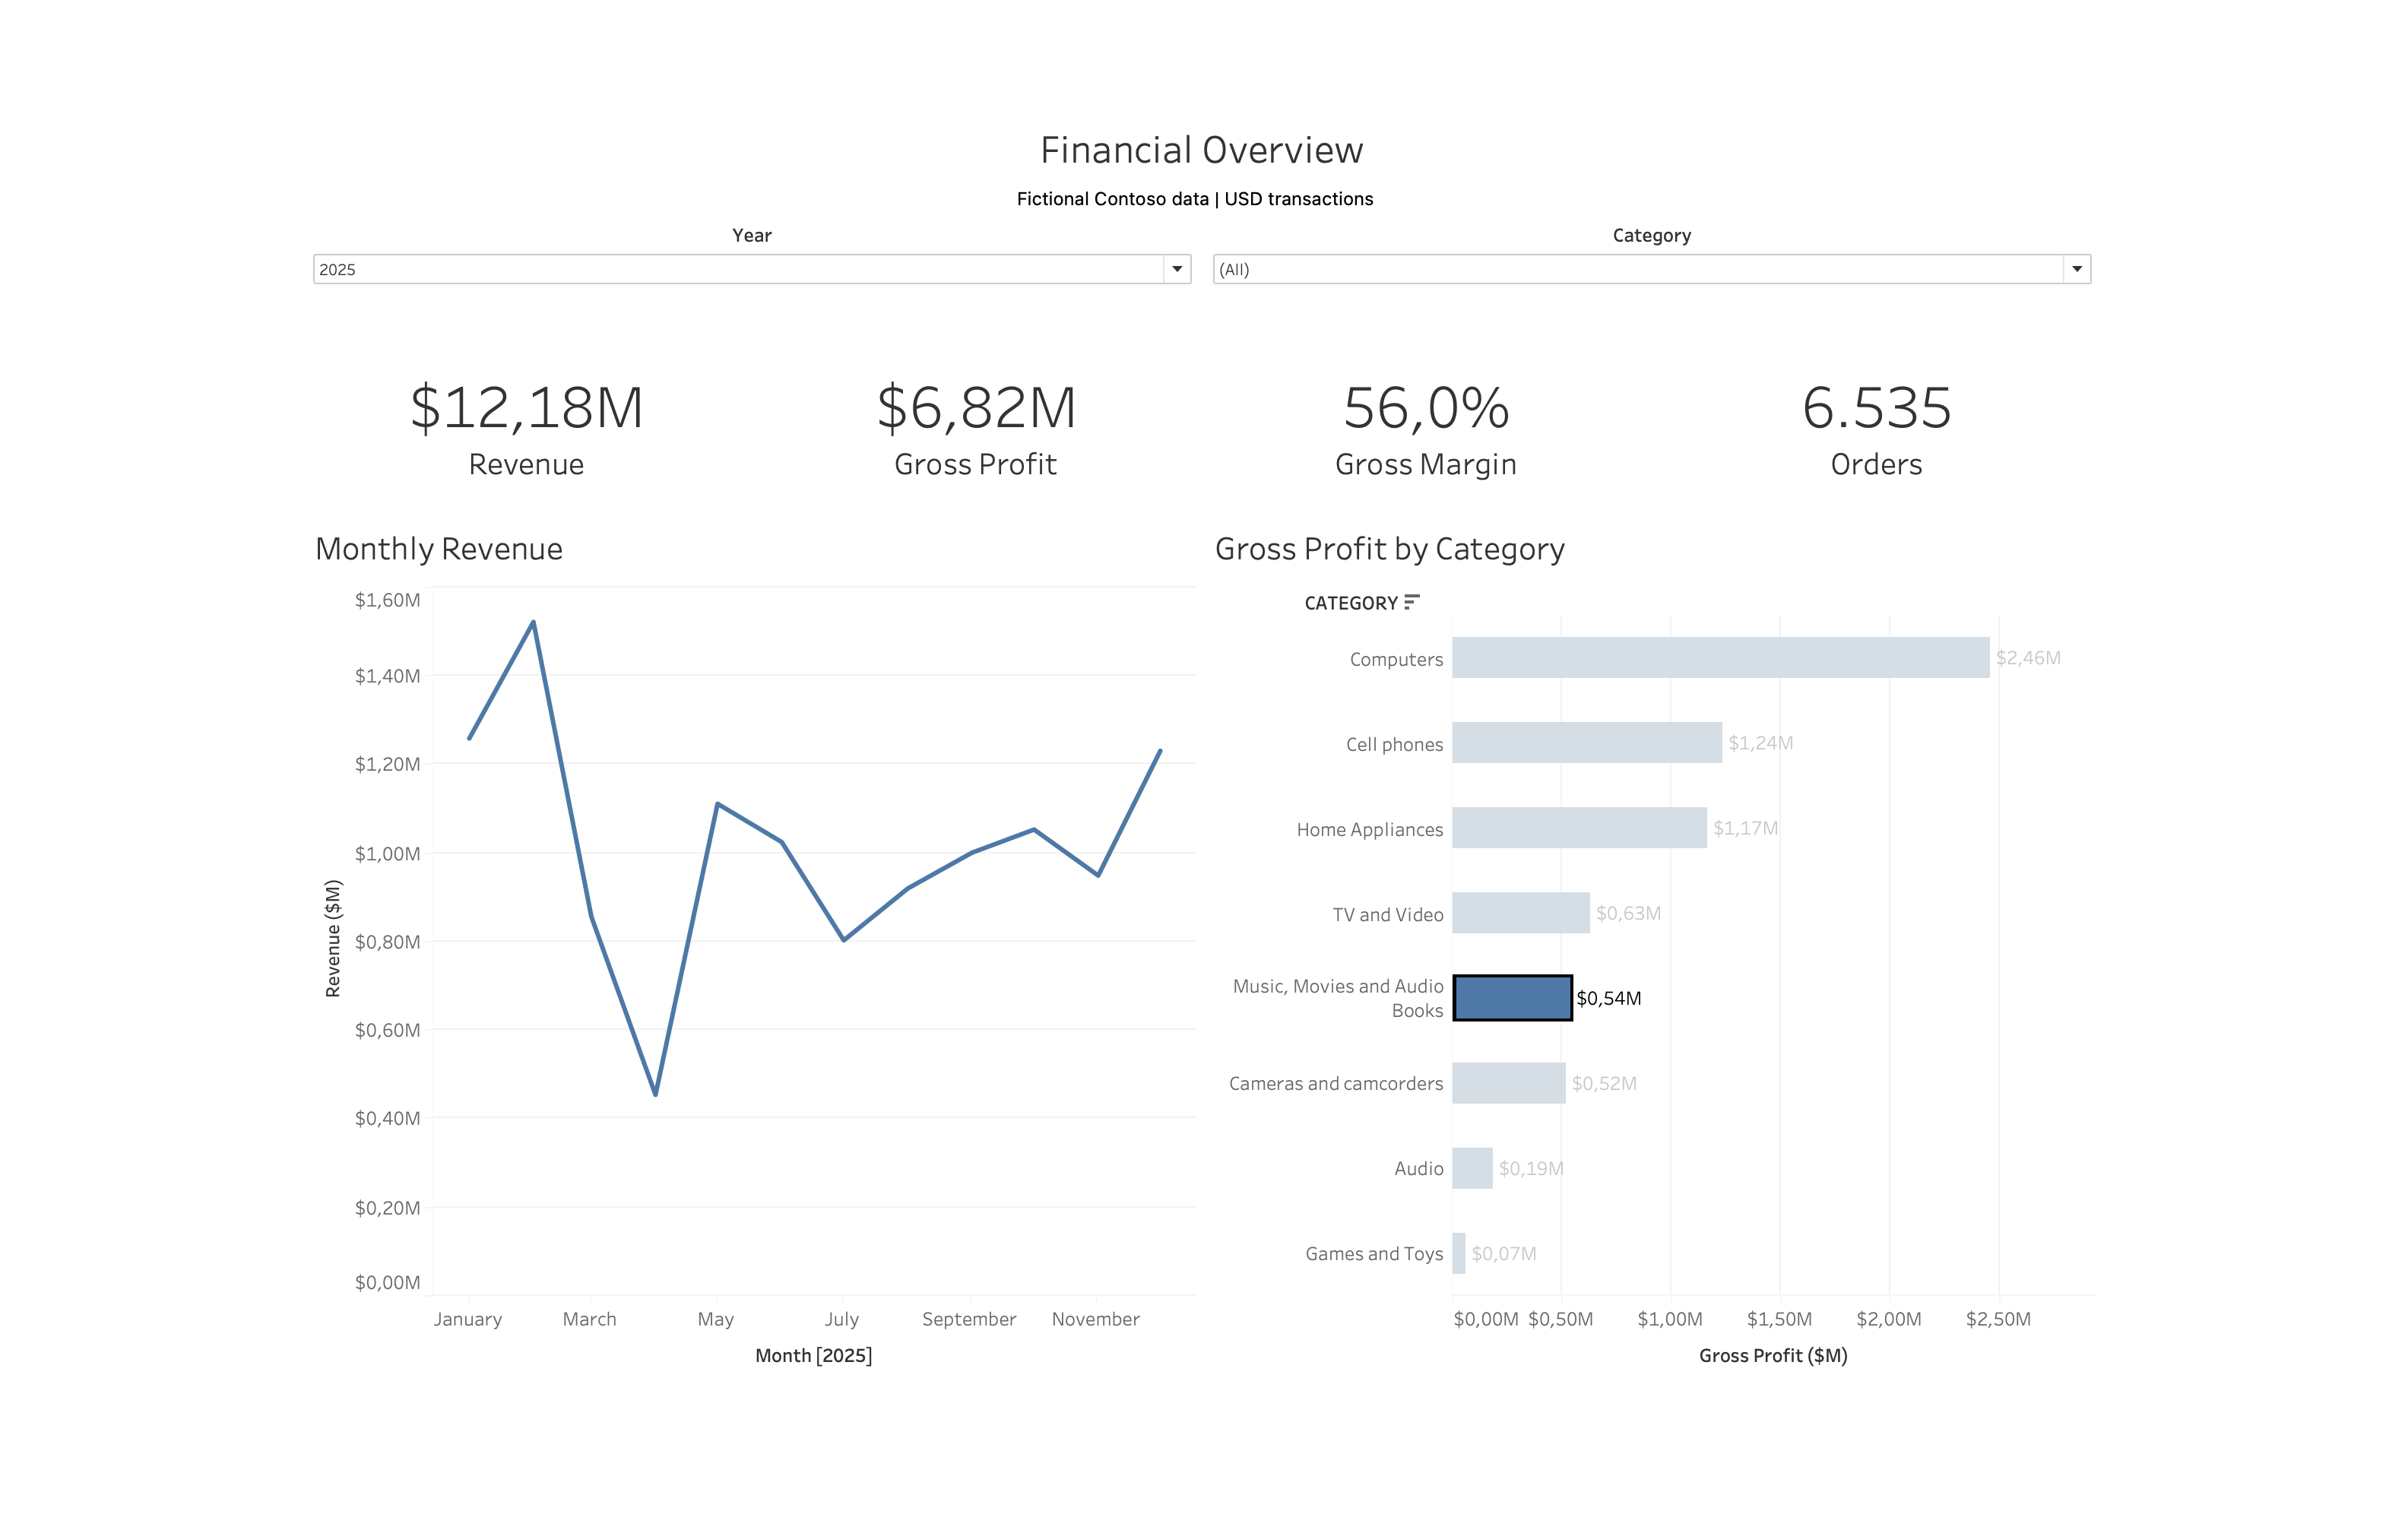

Layout of this report page (visuals, bound fields, positions):
{"tool":"tableau","page":{"name":"1 Financial Overview","canvas":[1200,850],"ordinal":0},"visuals":[{"type":"title","box":[8,8,1184,42]},{"type":"text","box":[8,50,1184,23]},{"type":"filter","title":"01 Revenue","param":"[federated.0wc9mog19mnc4j17oa5d400orr0l].[yr:ORDER YEAR:ok]","box":[8,73,592,81]},{"type":"filter","title":"01 Revenue","param":"[federated.0wc9mog19mnc4j17oa5d400orr0l].[none:CATEGORY:nk]","box":[600,73,592,52]},{"type":"worksheet","title":"01 Revenue","mark":"Automatic","box":[8,154,296,115]},{"type":"worksheet","title":"02 Gross Profit","mark":"Automatic","box":[304,154,296,115]},{"type":"worksheet","title":"03 Gross Margin","mark":"Automatic","box":[600,154,296,115]},{"type":"worksheet","title":"04 Orders","mark":"Automatic","box":[896,154,296,115]},{"type":"worksheet","title":"05 Monthly Trend","mark":"Line","rows":["REVENUE"],"cols":["ORDER DATE"],"box":[8,269,592,573]},{"type":"worksheet","title":"06 Category Overview","mark":"Bar","rows":["CATEGORY"],"cols":["GROSS PROFIT"],"box":[600,269,592,573]}]}

Visuals, with their boxes on the page's 1200x850 design canvas (x1, y1, x2, y2). These are canvas units, not pixel positions in the 2408x1514 screenshot, which may show the page scaled, cropped or inside an application window:
title: [x1=8, y1=8, x2=1192, y2=50]
text: [x1=8, y1=50, x2=1192, y2=73]
"01 Revenue" filter: [x1=8, y1=73, x2=600, y2=154]
"01 Revenue" filter: [x1=600, y1=73, x2=1192, y2=125]
"01 Revenue" worksheet: [x1=8, y1=154, x2=304, y2=269]
"02 Gross Profit" worksheet: [x1=304, y1=154, x2=600, y2=269]
"03 Gross Margin" worksheet: [x1=600, y1=154, x2=896, y2=269]
"04 Orders" worksheet: [x1=896, y1=154, x2=1192, y2=269]
"05 Monthly Trend" worksheet (Line marks): [x1=8, y1=269, x2=600, y2=842]
"06 Category Overview" worksheet (Bar marks): [x1=600, y1=269, x2=1192, y2=842]
